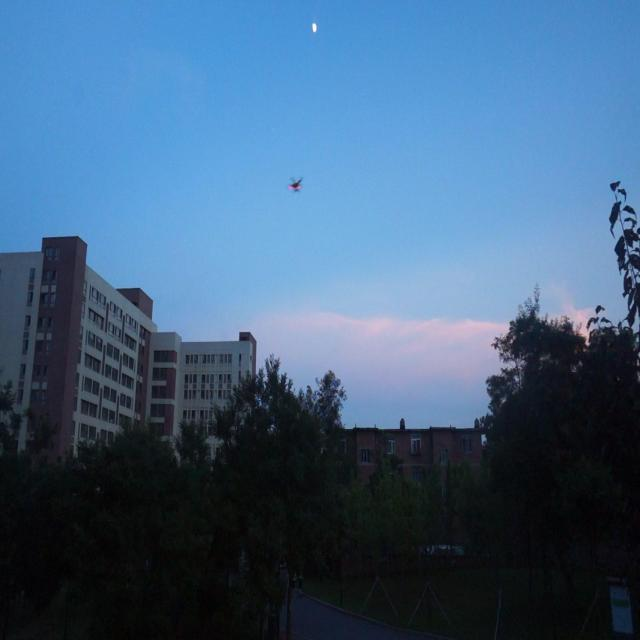drone: (284, 174, 306, 196)
